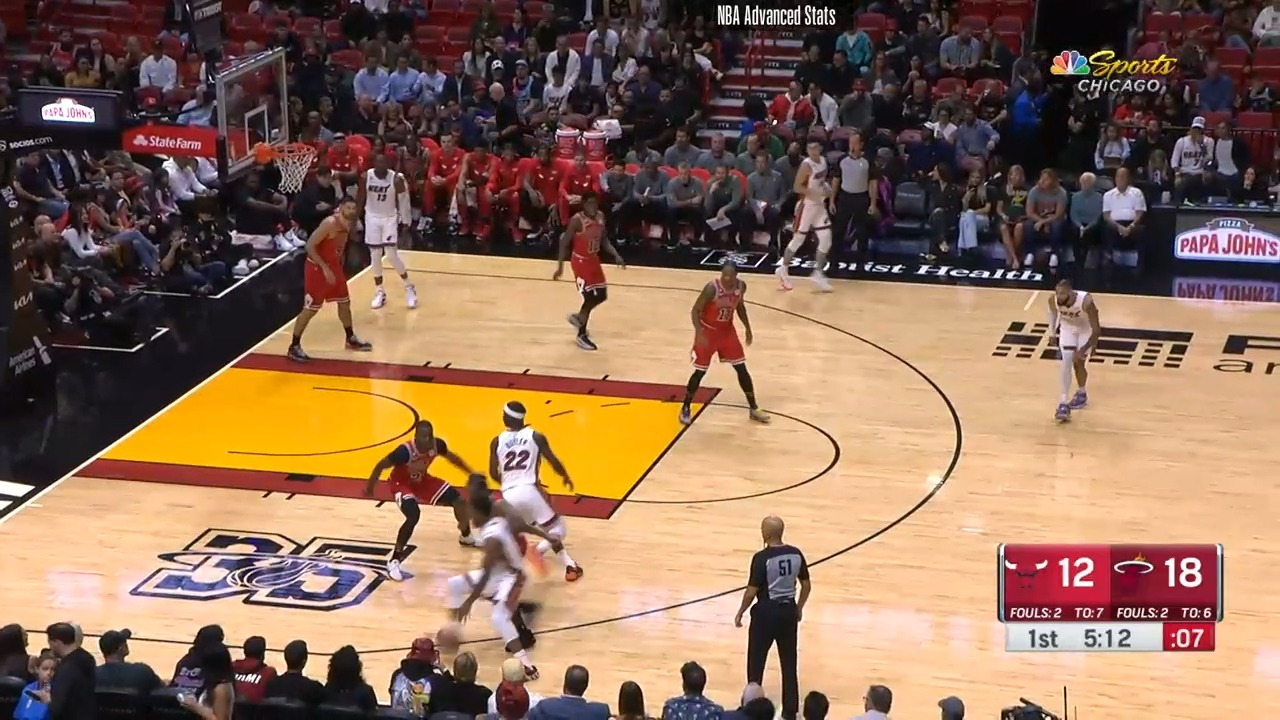net: (251, 139, 322, 195)
player: (362, 425, 483, 589), (482, 399, 587, 587), (436, 496, 529, 669), (674, 266, 769, 432), (282, 194, 368, 361), (351, 149, 419, 312), (1044, 273, 1114, 426), (556, 193, 621, 354), (779, 137, 840, 296), (434, 623, 465, 657)
referee: (727, 510, 812, 713)
